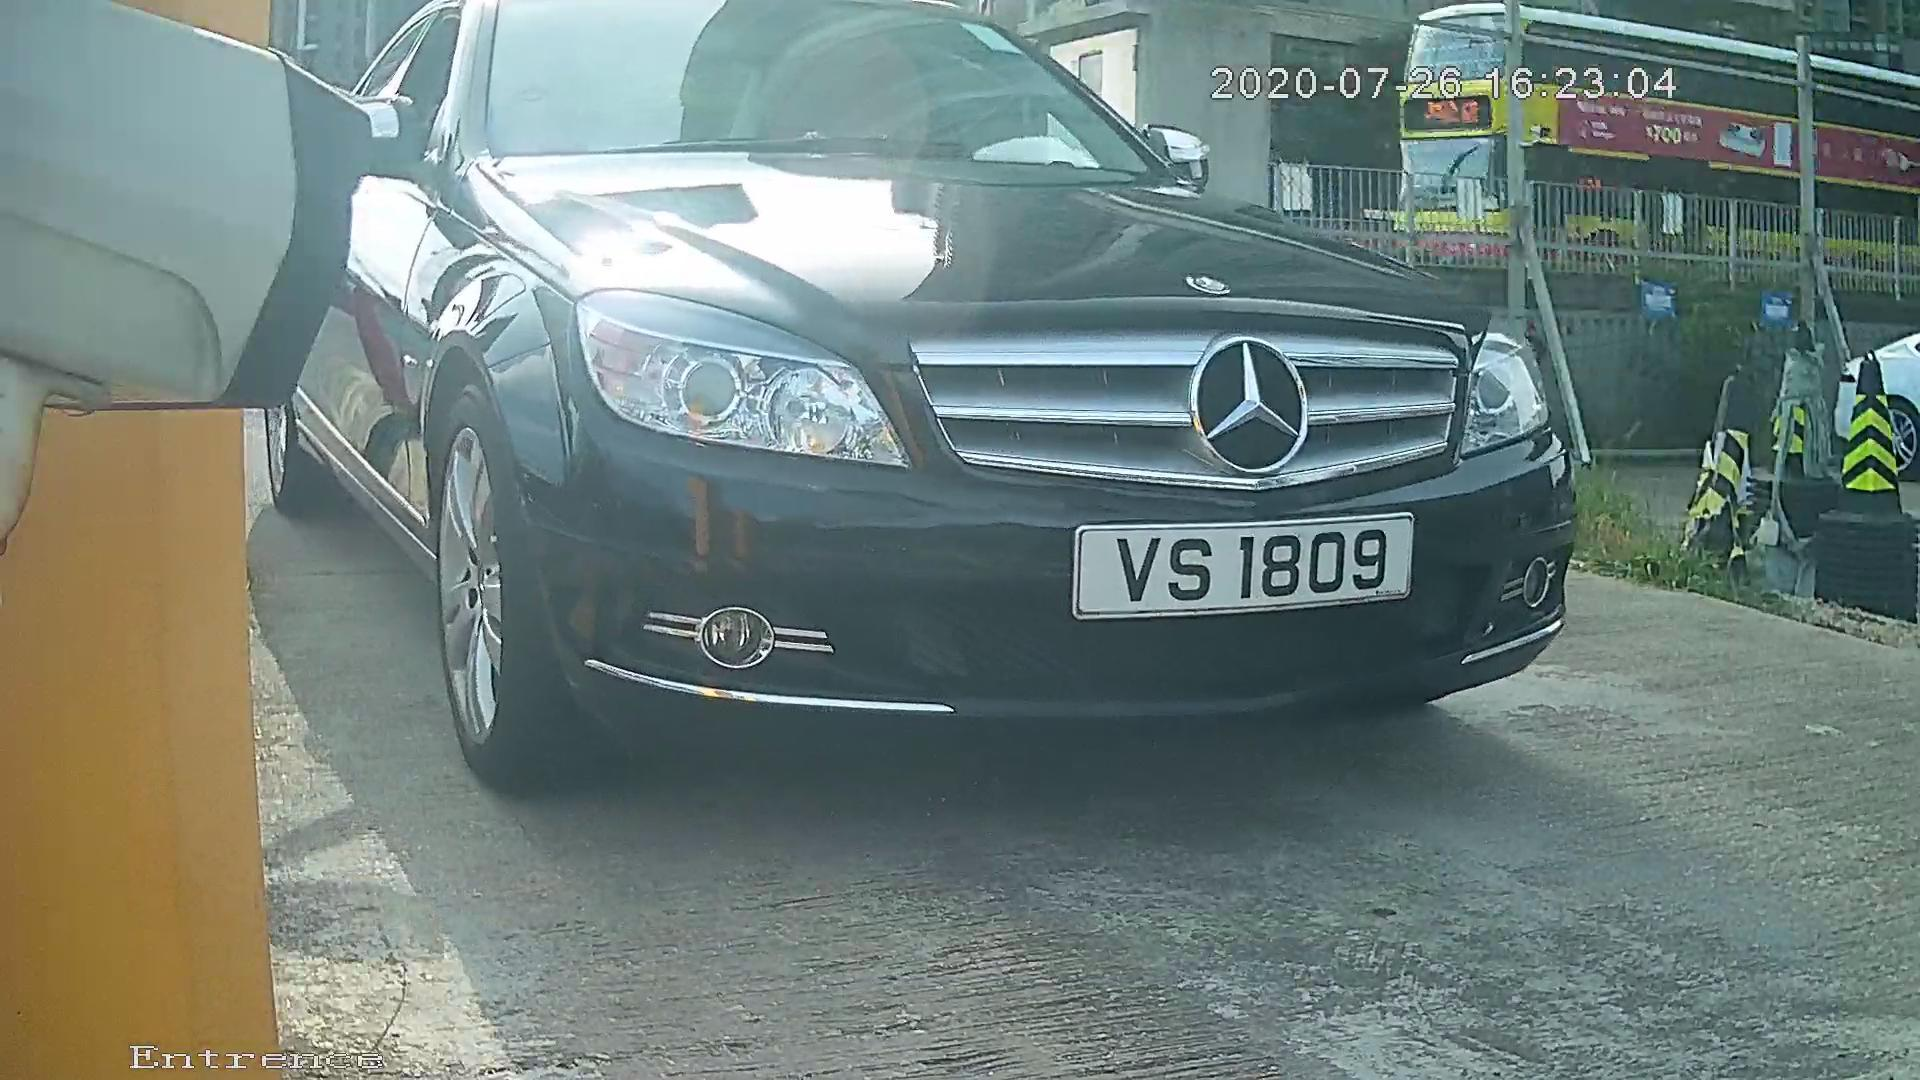privatecar: (232, 20, 1741, 815)
